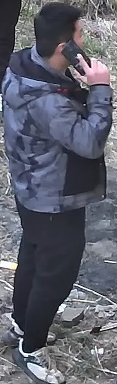phone: (34, 4, 116, 164)
